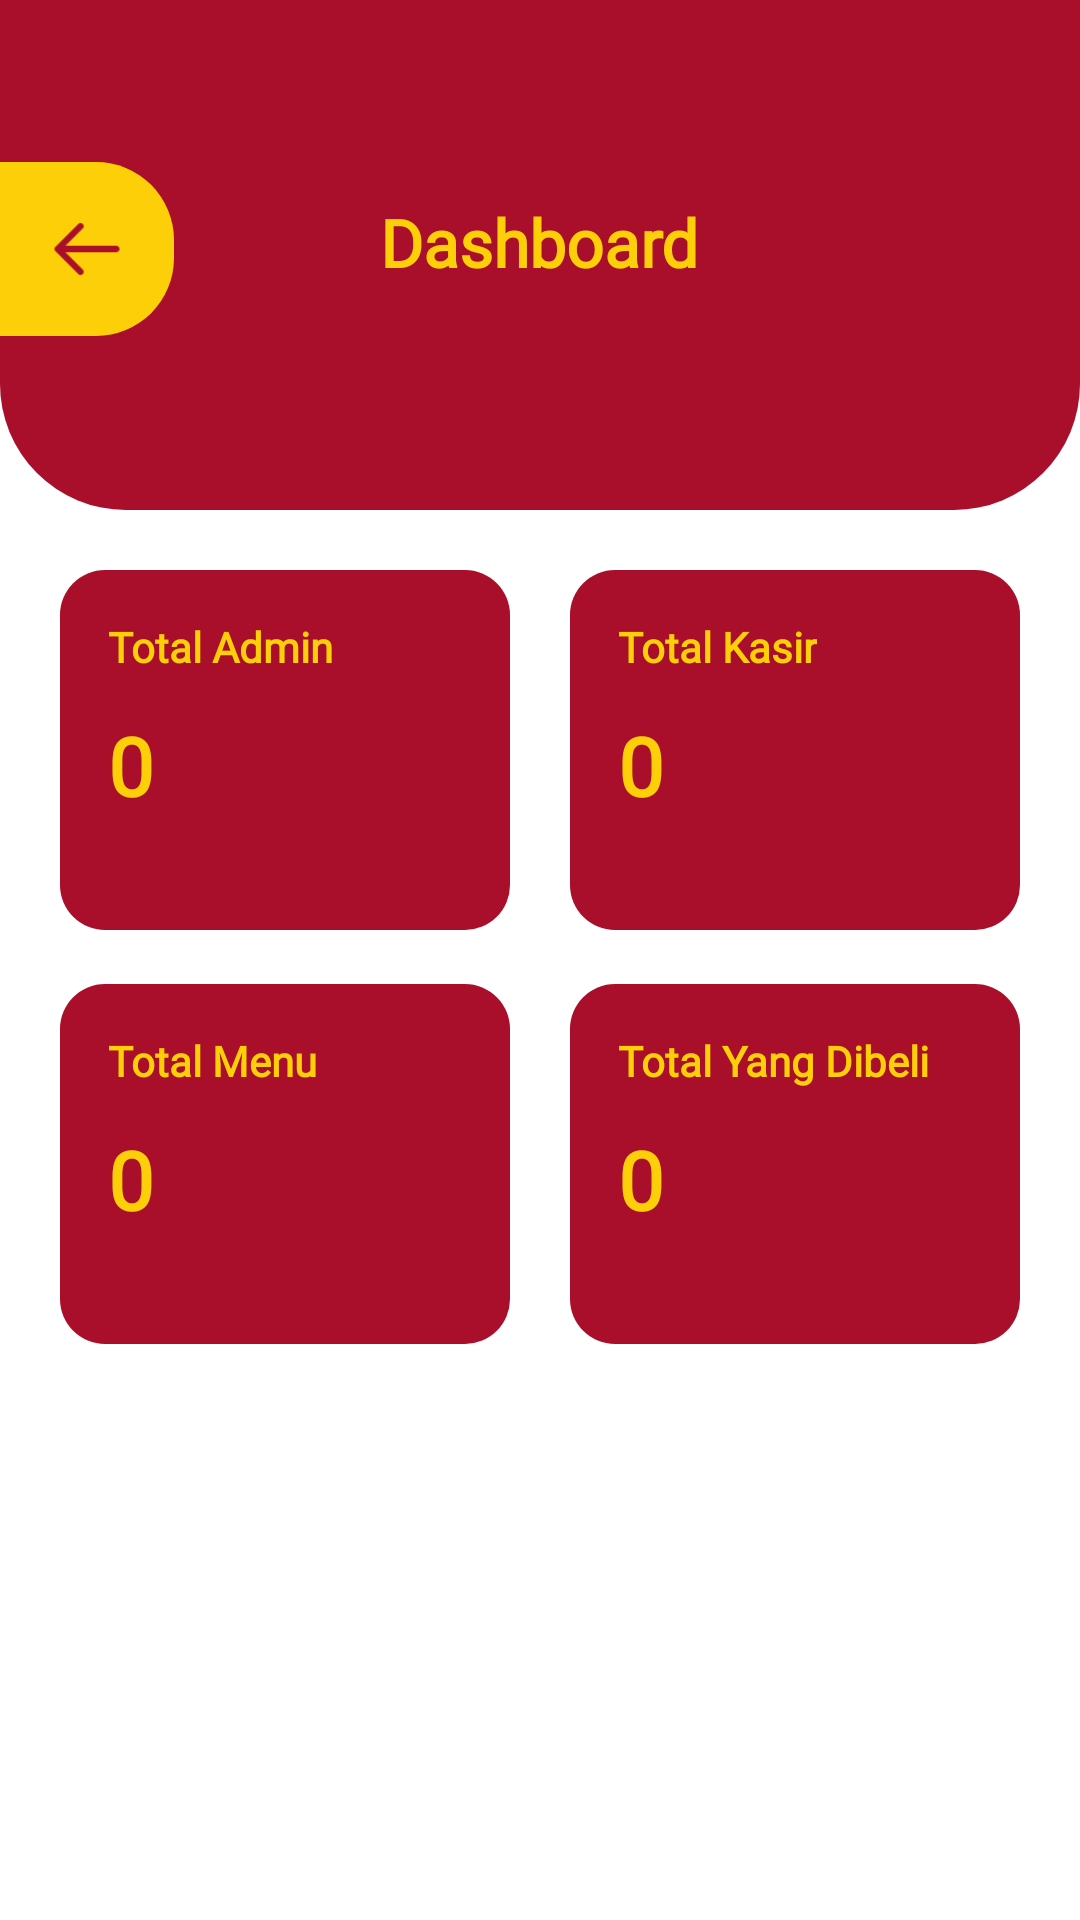

Locate icon controls on the screen. Image size 1080*1920, boxes as (x1, y1, x2, y2).
back: (54, 223, 120, 275)
